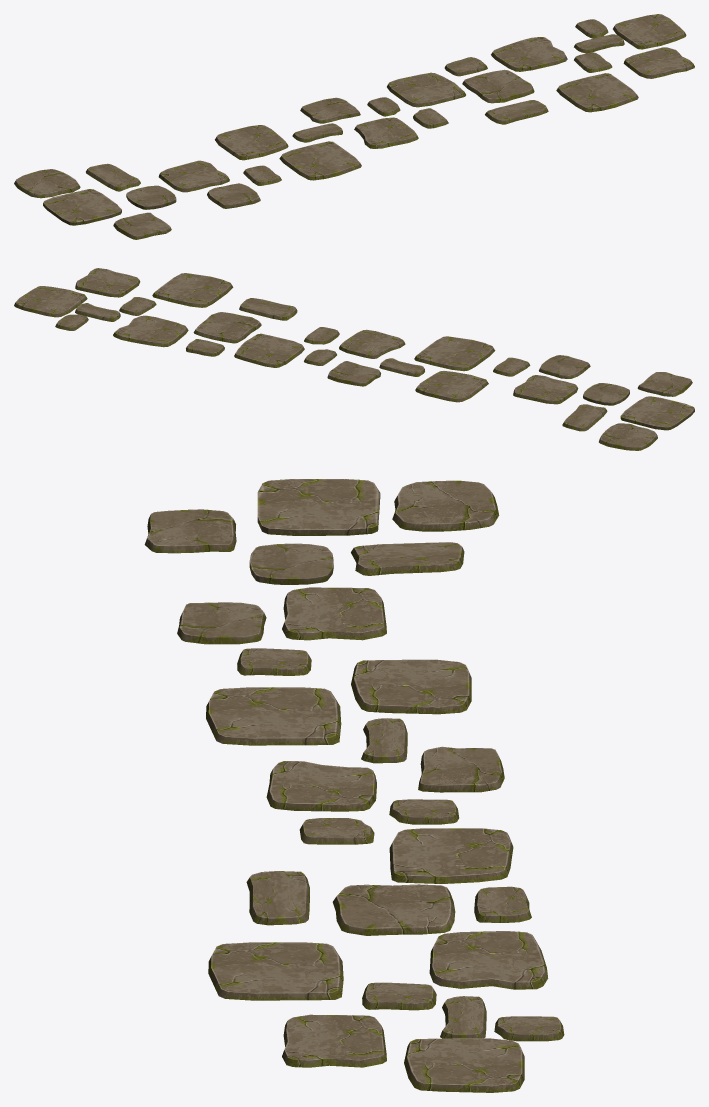
The model's file is bg_stone.FBX.
3 views of the same model, one above another, from view 1: azimuth 30°, elevation 25°; view 2: azimuth 150°, elevation 25°; view 3: azimuth 270°, elevation 25° (orthographic). The views are drawn at different scales.
Parts seen in each view (by area): view 1: bg_stone; view 2: bg_stone; view 3: bg_stone.
Boxes of the visible parts, <box> form: bg_stone: <box>14,14,694,239</box>; bg_stone: <box>14,268,694,450</box>; bg_stone: <box>144,479,564,1092</box>.
Size of the model in its own units: 117 by 0.5323 by 34.15.
